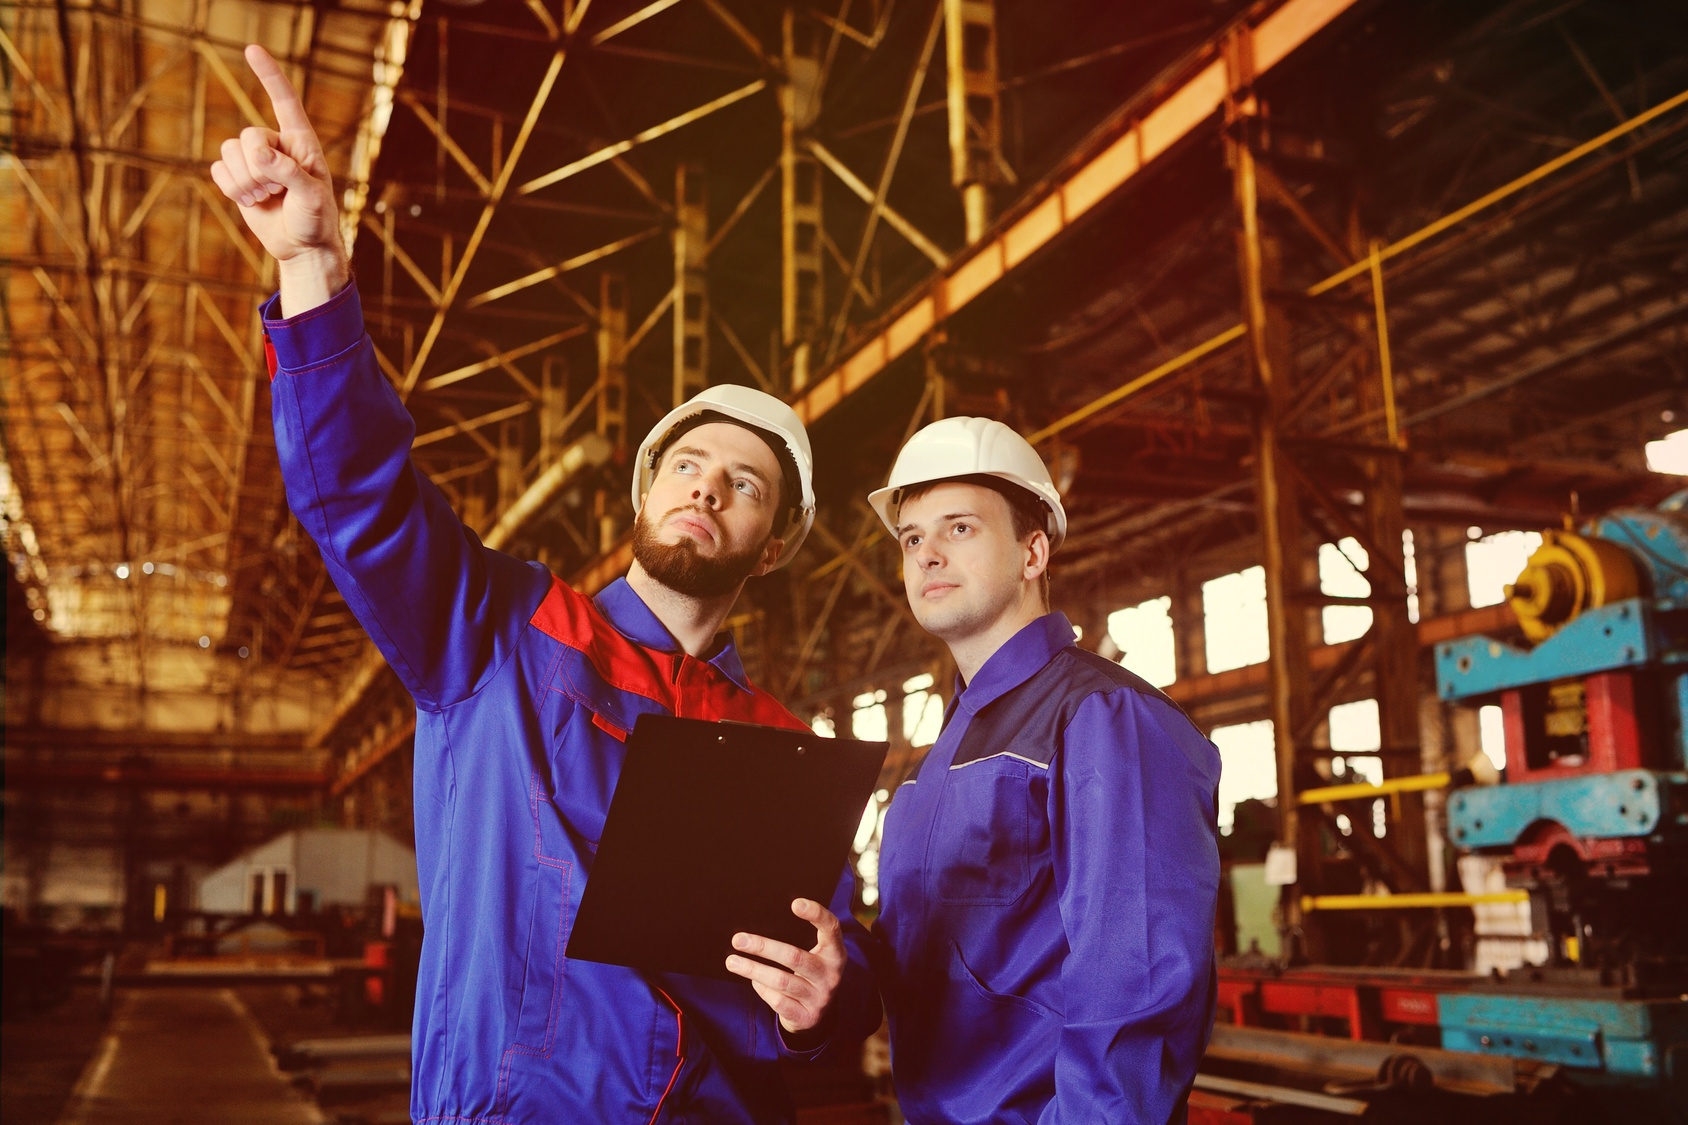white: (875, 418, 1071, 640), (625, 380, 825, 596)
